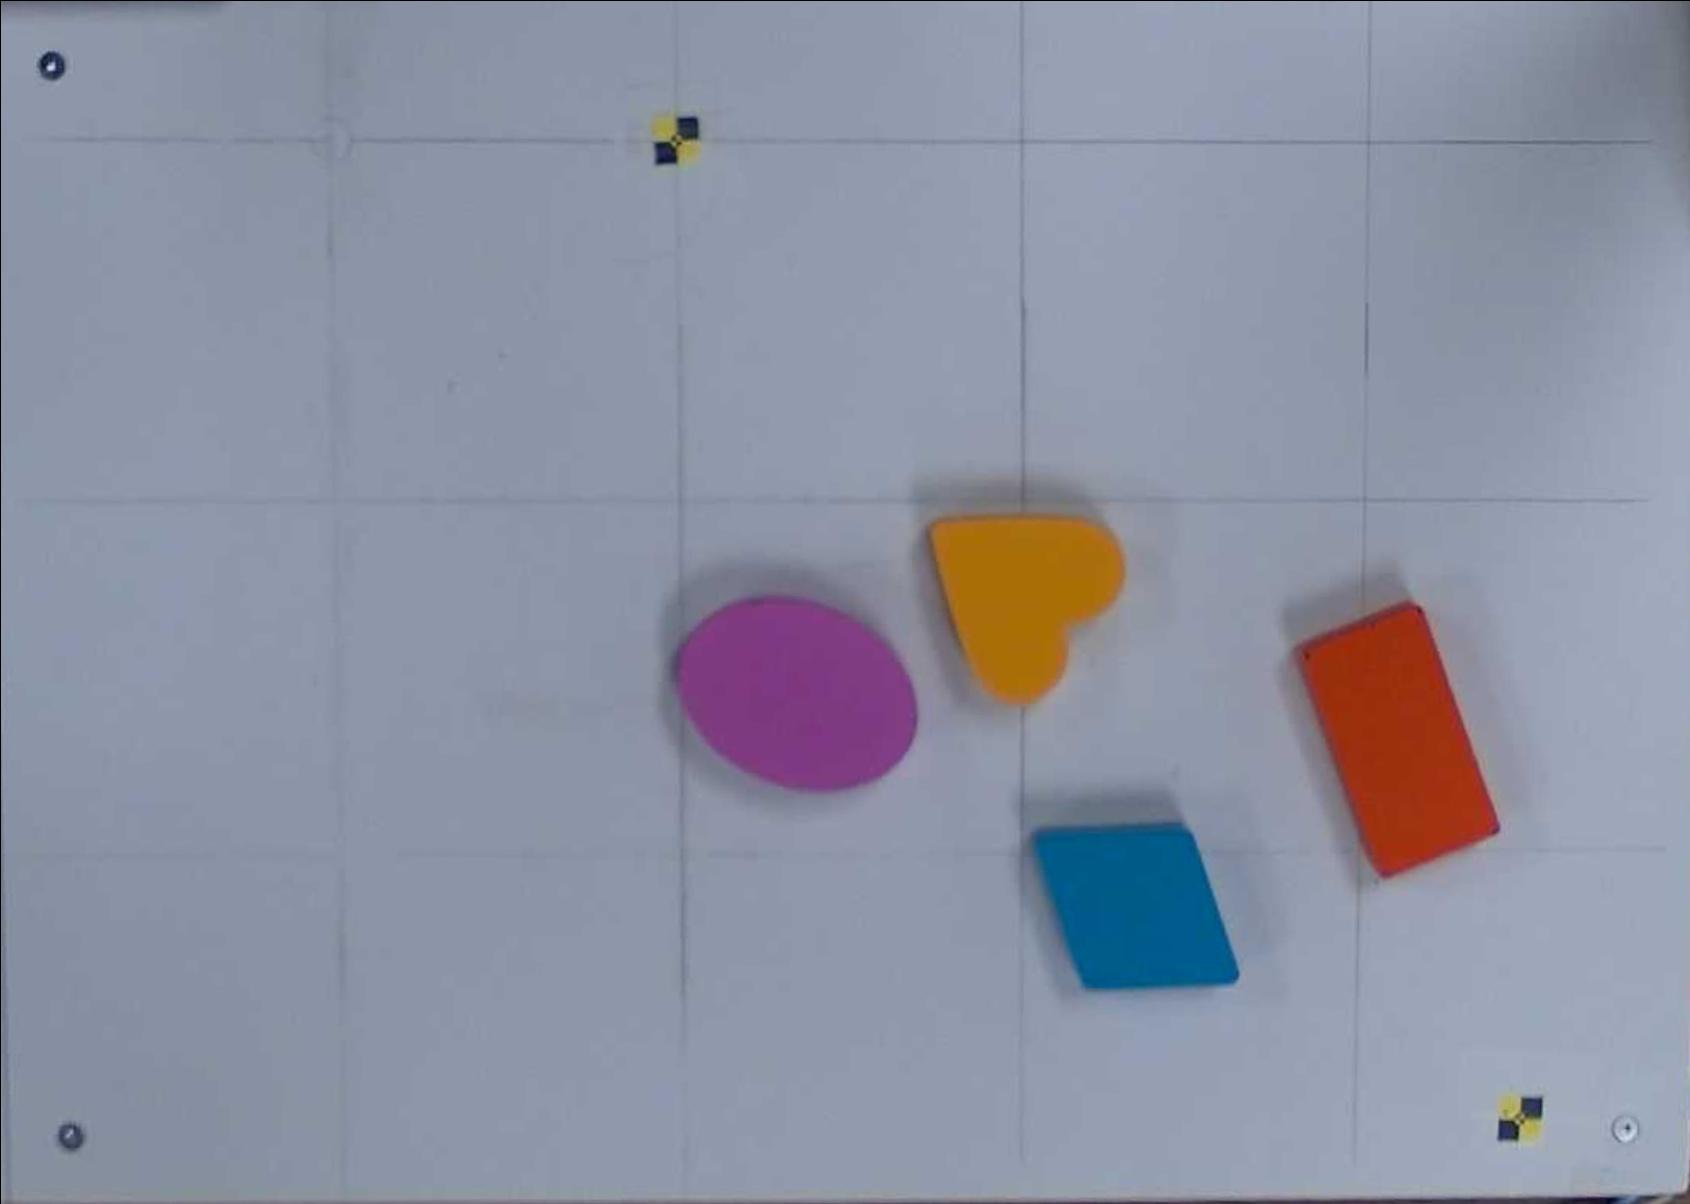Ellipse: (678, 598, 917, 792)
Heart: (930, 517, 1126, 708)
Parallelogram: (1031, 826, 1240, 992)
Rectangle: (1296, 603, 1501, 880)
